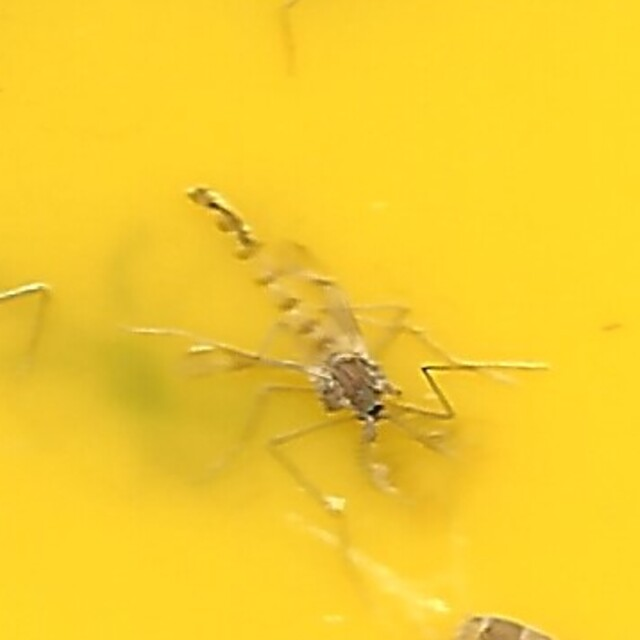Nematocera: (179, 170, 461, 470)
